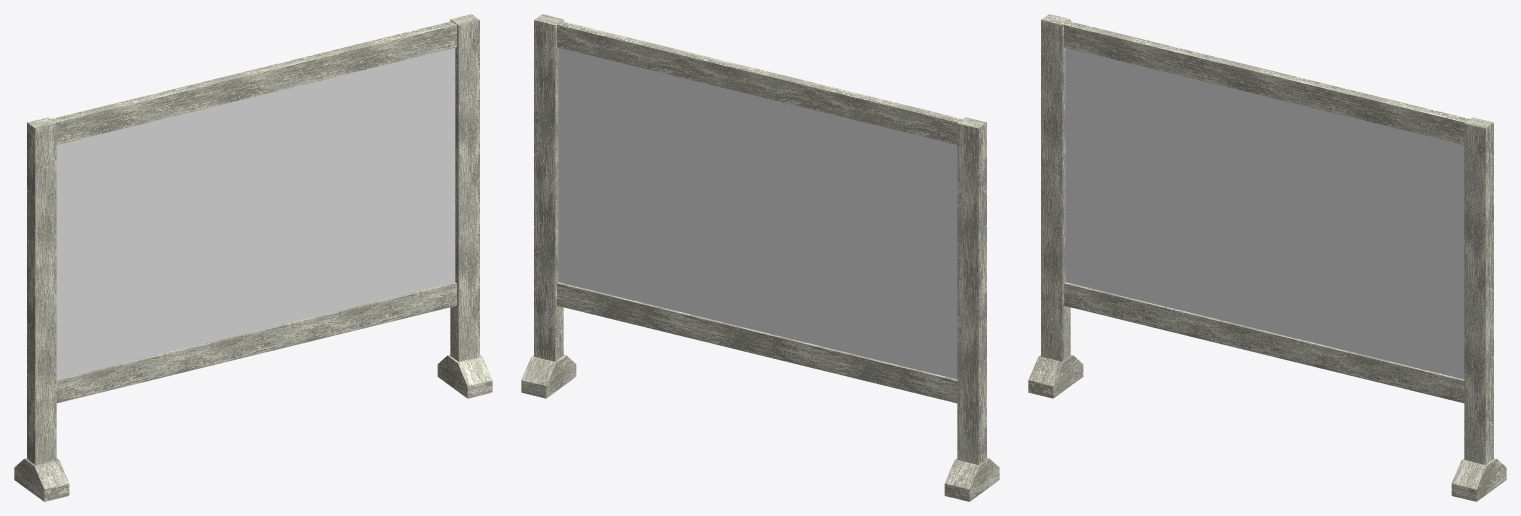
Rendered from demo_display.glb.
The picture shows the model from 3 angles, left to right: view 1: azimuth 30°, elevation 25°; view 2: azimuth 150°, elevation 25°; view 3: azimuth 330°, elevation 25°; orthographic projection.
Visible parts, largest first — view 1: Cube, Cube.002; view 2: Cube, Cube.002; view 3: Cube, Cube.002.
Part boxes in pixels (x1,y1,x2,y2): Cube: (56,48,455,379); Cube.002: (14,14,492,501); Cube: (558,48,957,379); Cube.002: (521,14,999,501); Cube: (1065,48,1464,379); Cube.002: (1028,14,1506,501).
Bounding box in the file's own units: 2.93 × 2.28 × 0.3402.
2 materials, 1 textured.
